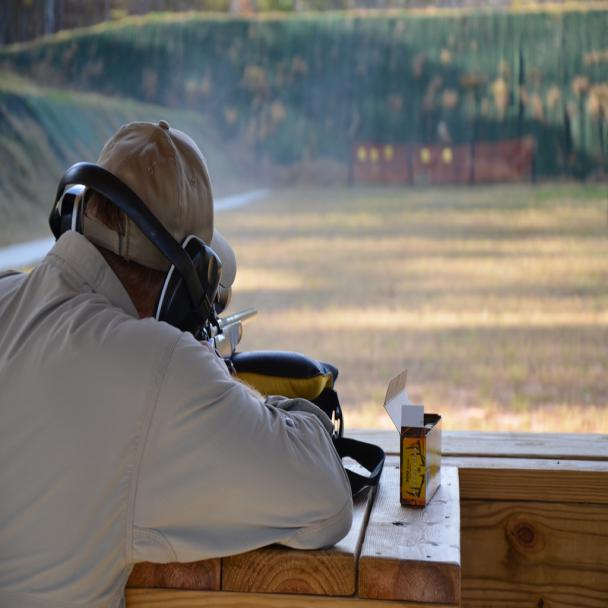Gun: (195, 301, 261, 366)
